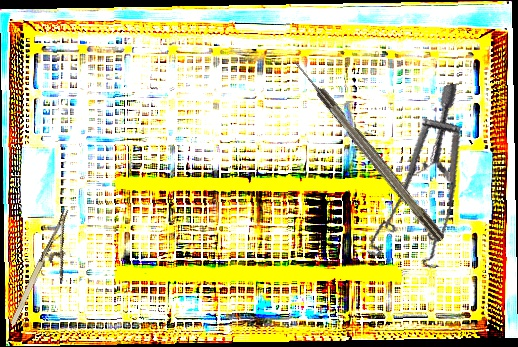Hook Surgical: (290, 56, 446, 244)
Needle Holder: (6, 208, 92, 335)
Speculum: (336, 83, 494, 281)
